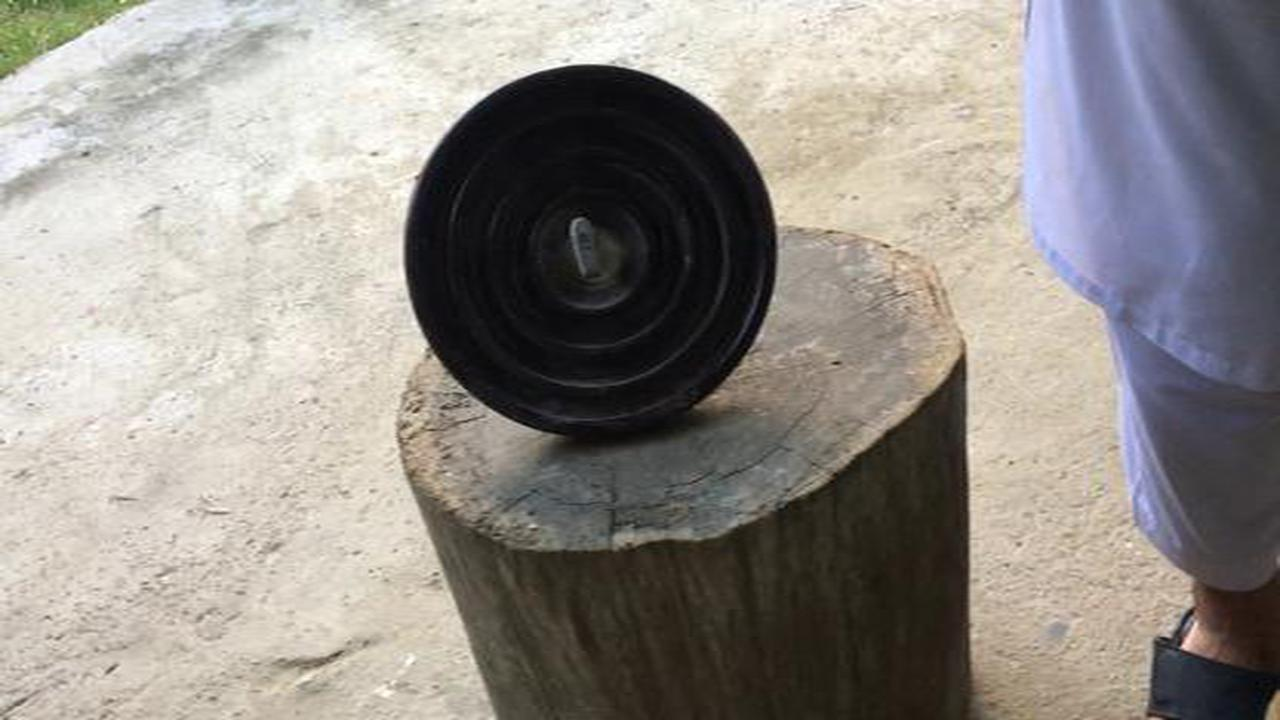insulator_disc: (400, 60, 781, 456)
